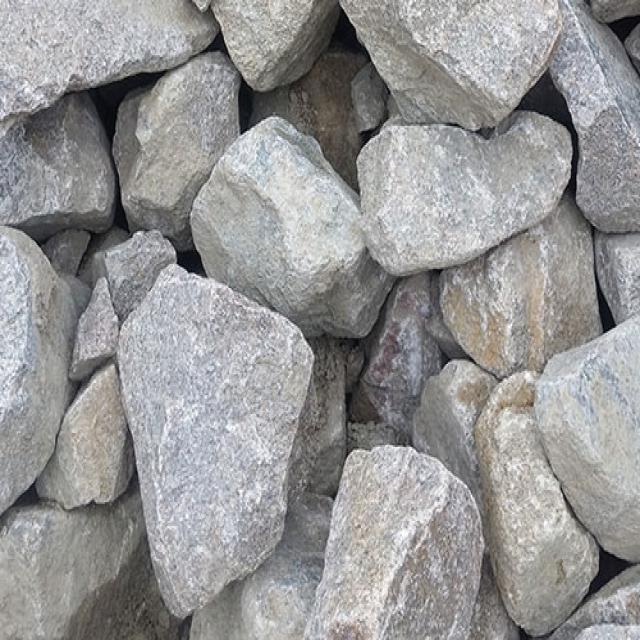Igneous: (1, 2, 635, 638)
